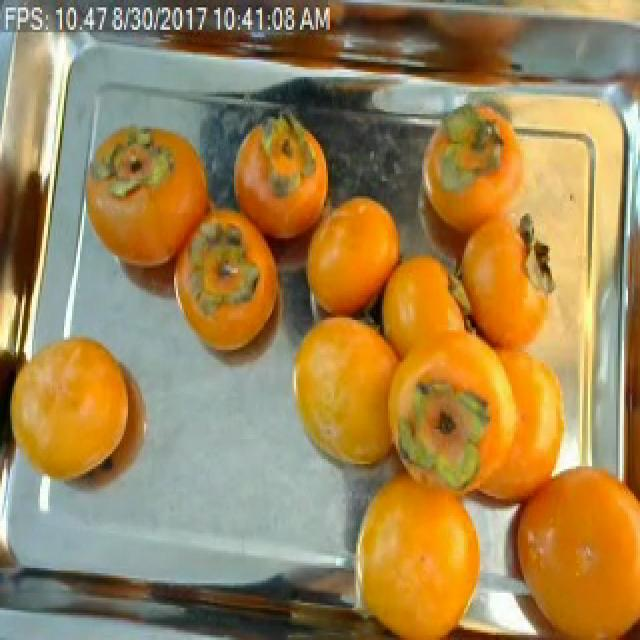Fruit: (274, 297, 434, 493), (334, 454, 498, 640), (2, 318, 162, 506), (290, 176, 414, 347), (216, 104, 334, 256)
